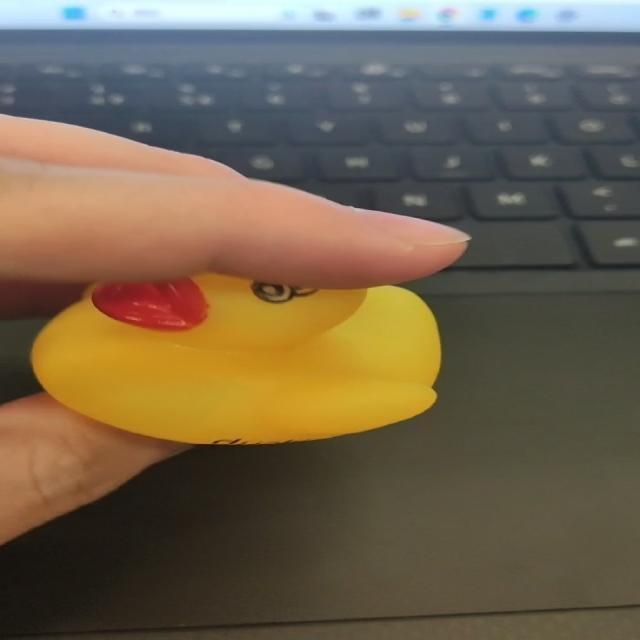rubber-duck: (31, 272, 439, 442)
